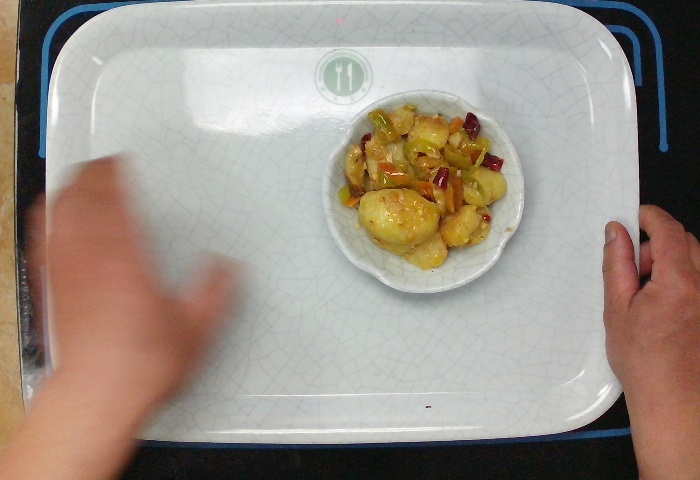JYsf-Ao_Yuan_Wan: (324, 90, 525, 295)
